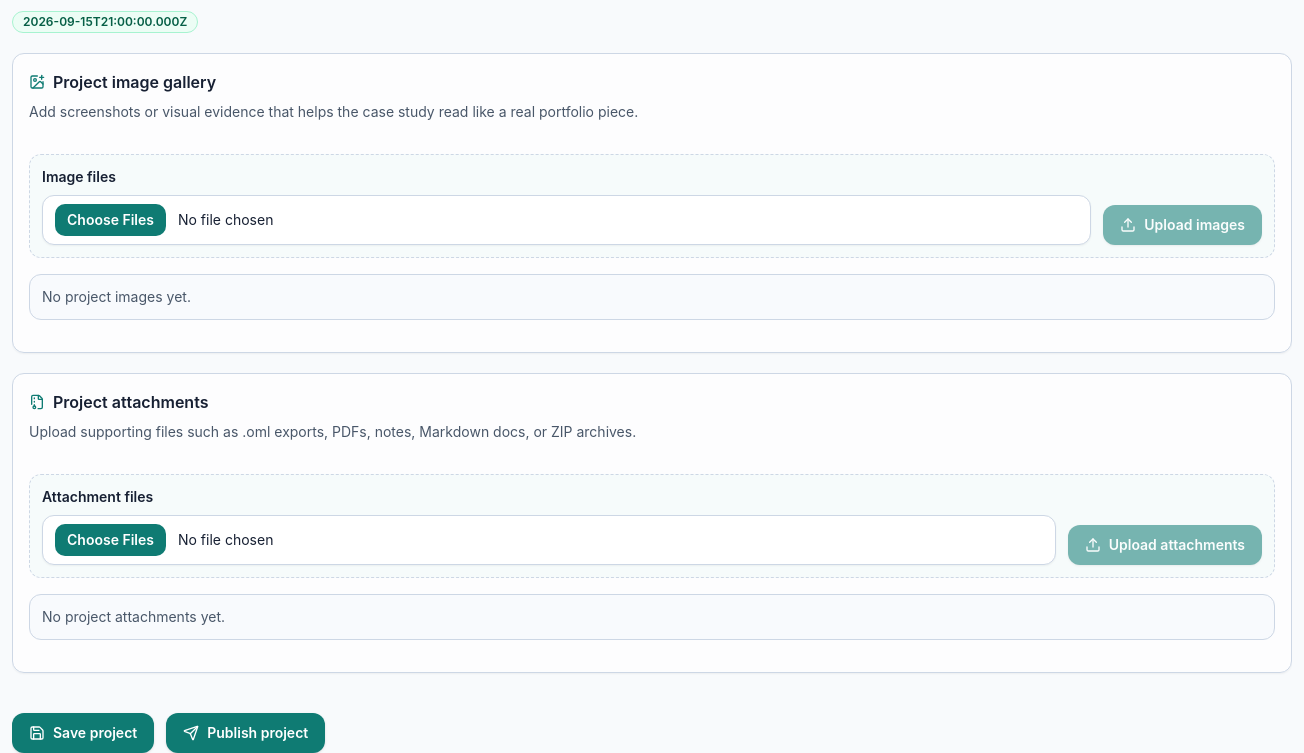
Test case: ProjectEditor › shows backend validation errors when editing
This screenshot has width=1304, height=753.
(page scrolled)
Click the button "Save project" at (83, 733), box [12,713,154,752]
(page scrolled)
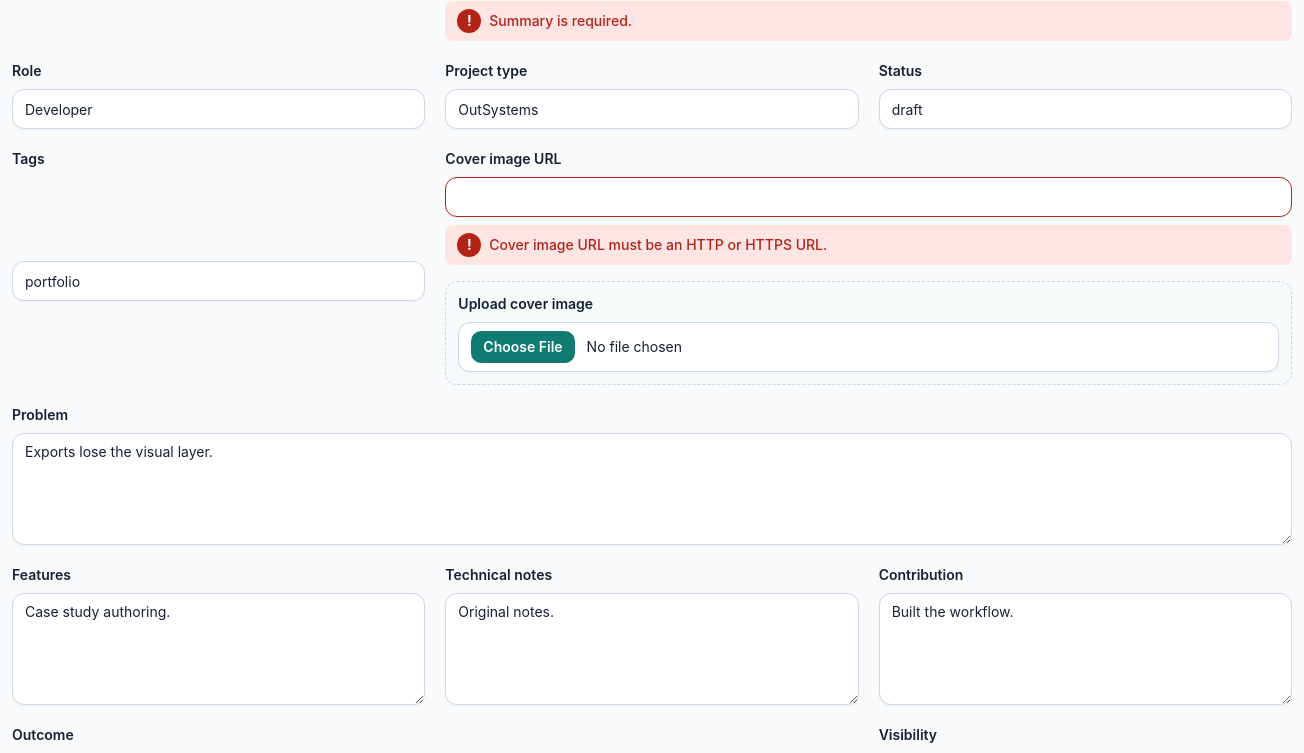
Expected: the text "Summary is required." is shown, [489,11,632,31]
Expected: the text "Cover image URL must be an HTTP or HTTPS URL." is shown, [489,235,827,255]
